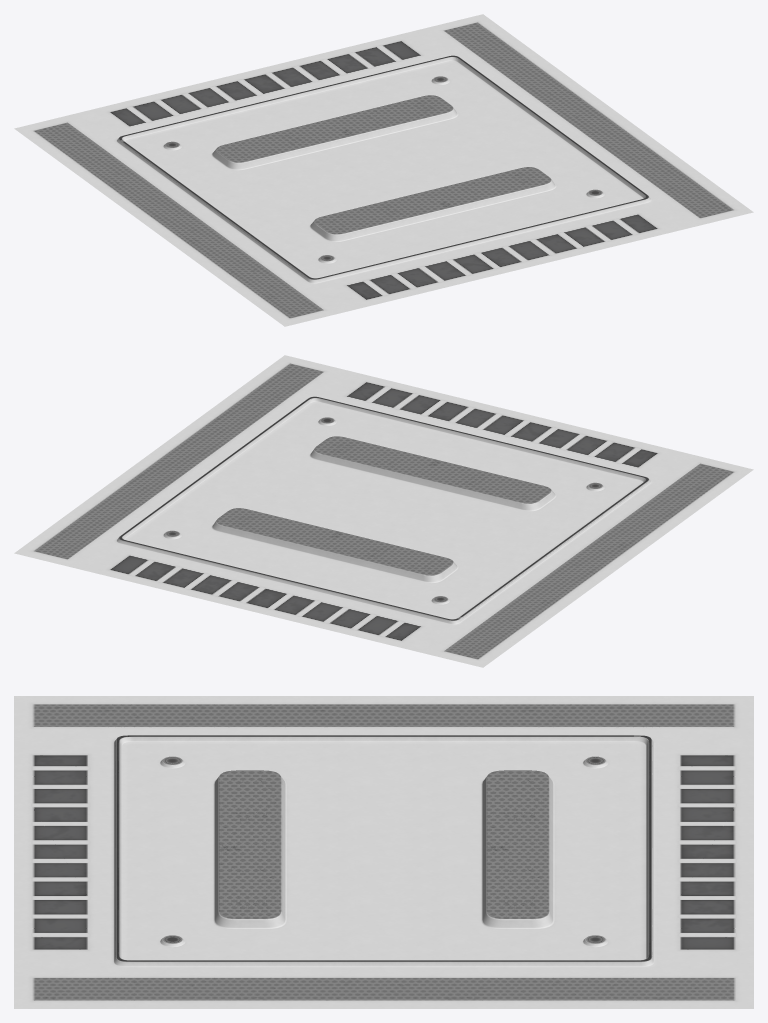
The model's file is SM_MCeiling03-2-350x350-2.FBX.
The picture shows the model from 3 angles, top to bottom: view 1: azimuth 30°, elevation 25°; view 2: azimuth 150°, elevation 25°; view 3: azimuth 270°, elevation 25°; orthographic projection. The views are drawn at different scales.
Visible parts, largest first — view 1: SM_MCeiling03-2-350x350-2; view 2: SM_MCeiling03-2-350x350-2; view 3: SM_MCeiling03-2-350x350-2.
Boxes of the visible parts, x1,y1,x2,y2 form: SM_MCeiling03-2-350x350-2: [14, 14, 753, 326]; SM_MCeiling03-2-350x350-2: [14, 355, 753, 667]; SM_MCeiling03-2-350x350-2: [14, 696, 753, 1008].
Size of what is drawn, in the model's own units: 350 by 350 by 4.
